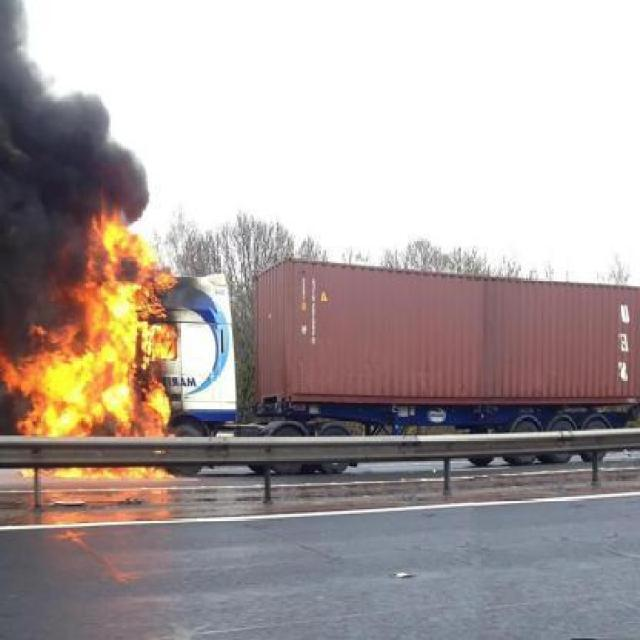Fire: (28, 232, 168, 472)
Smoke: (0, 92, 158, 210)
